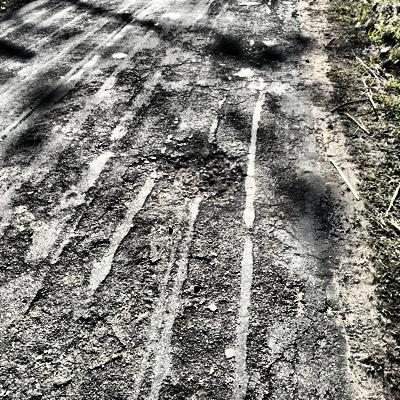pothole: (141, 137, 246, 203)
